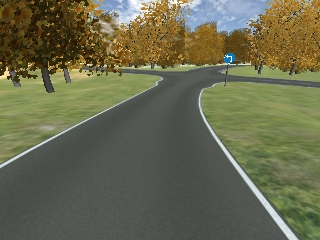left: (222, 52, 235, 64)
